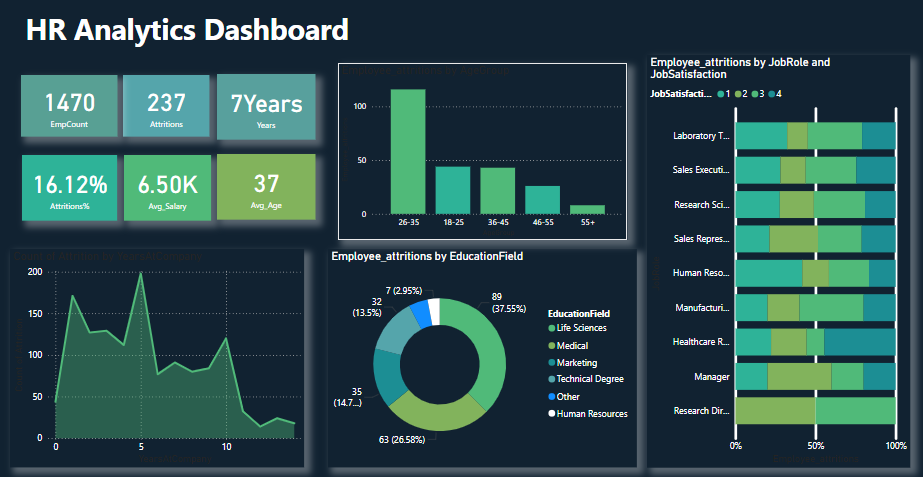

What the dashboard file says about the page in this screenshot:
{"tool":"powerbi","page":{"name":"Page 1","canvas":[1380,720],"ordinal":0},"visuals":[{"type":"card","fields":{"Values":["HR Analystics dataset.Employee_attritions"]},"box":[184,114.3,129.1,92],"z":0},{"type":"card","fields":{"Values":["HR Analystics dataset.Empolyee_Count"]},"box":[31.2,114.3,143.9,92],"z":1000},{"type":"card","fields":{"Values":["HR Analystics dataset.Years_with_txt"]},"box":[323.5,112.8,146.9,97.9],"z":2000},{"type":"card","fields":{"Values":["HR Analystics dataset.Attritions%"]},"box":[32.6,234.5,142.5,97.9],"z":3000},{"type":"card","fields":{"Values":["HR Analystics dataset.Avg_Salary"]},"box":[184.5,233.9,129.6,97.9],"z":4000},{"type":"card","fields":{"Values":["HR Analystics dataset.Avg_Age"]},"box":[323.5,233,146.9,97.9],"z":5000},{"type":"areaChart","fields":{"Y":["CountNonNull(HR Analystics dataset.Attrition)"],"Category":["HR Analystics dataset.YearsAtCompany"]},"box":[14.8,373.9,439.2,326.5],"z":6000},{"type":"donutChart","fields":{"Y":["HR Analystics dataset.Employee_attritions"],"Category":["HR Analystics dataset.EducationField"]},"box":[489.7,373.9,461.5,326.5],"z":7000},{"type":"clusteredColumnChart","fields":{"Category":["HR Analystics dataset.AgeGroup"],"Y":["HR Analystics dataset.Employee_attritions"]},"box":[504.5,96.5,431.8,264.1],"z":8000},{"type":"hundredPercentStackedBarChart","fields":{"Y":["HR Analystics dataset.Employee_attritions"],"Series":["HR Analystics dataset.JobSatisfaction"],"Category":["HR Analystics dataset.JobRole"]},"box":[966,84.6,393.2,615.8],"z":9000},{"type":"textbox","box":[32.6,11.9,603.9,72.7],"z":10000}]}

Visuals, with their boxes in screenshot pixels (x1, y1, x2, y2), scaled from the page's 1380x720 canvas onto the 923x477 screenshot:
card - HR Analystics dataset.Employee_attritions: 123:76:209:137
card - HR Analystics dataset.Empolyee_Count: 21:76:117:137
card - HR Analystics dataset.Years_with_txt: 216:75:315:140
card - HR Analystics dataset.Attritions%: 22:155:117:220
card - HR Analystics dataset.Avg_Salary: 123:155:210:220
card - HR Analystics dataset.Avg_Age: 216:154:315:219
areaChart - CountNonNull(HR Analystics dataset.Attrition) x HR Analystics dataset.YearsAtCompany: 10:248:304:464
donutChart - HR Analystics dataset.Employee_attritions x HR Analystics dataset.EducationField: 328:248:636:464
clusteredColumnChart - HR Analystics dataset.AgeGroup x HR Analystics dataset.Employee_attritions: 337:64:626:239
hundredPercentStackedBarChart - HR Analystics dataset.Employee_attritions x HR Analystics dataset.JobSatisfaction: 646:56:909:464
textbox: 22:8:426:56
